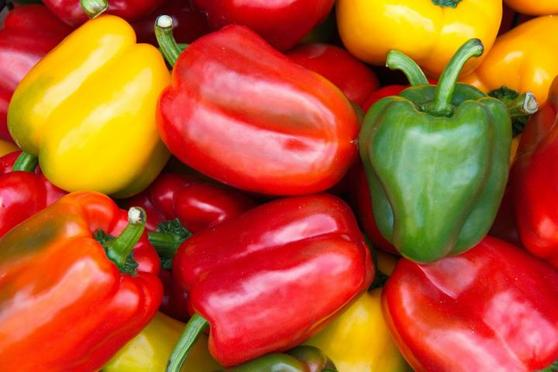pepper: (151, 17, 359, 191)
